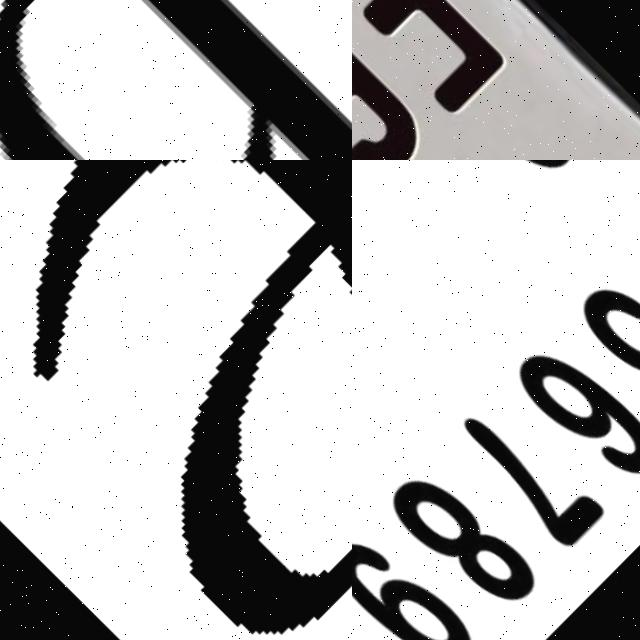0: (384, 160, 619, 227)
4: (614, 181, 640, 389)
5: (547, 245, 640, 450)
6: (487, 314, 640, 515), (352, 0, 435, 160)
7: (417, 378, 611, 572)
8: (370, 447, 575, 640)
9: (352, 505, 516, 640)
E: (174, 160, 352, 633), (352, 0, 507, 122)
